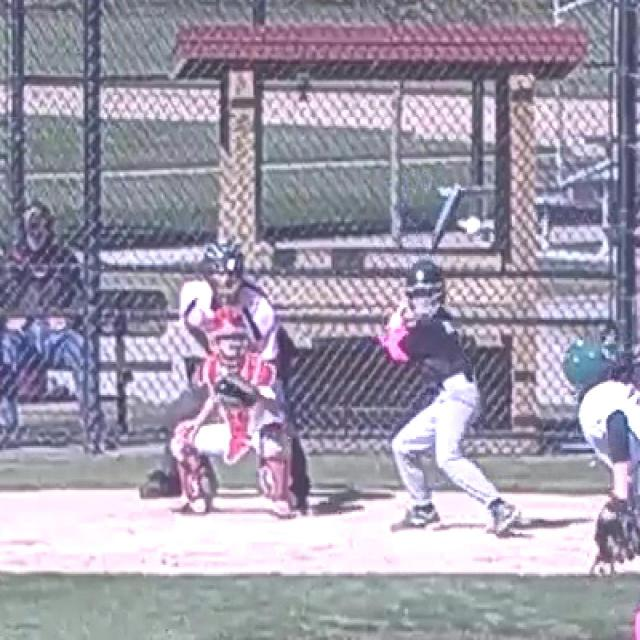baseball: (468, 218, 480, 234)
